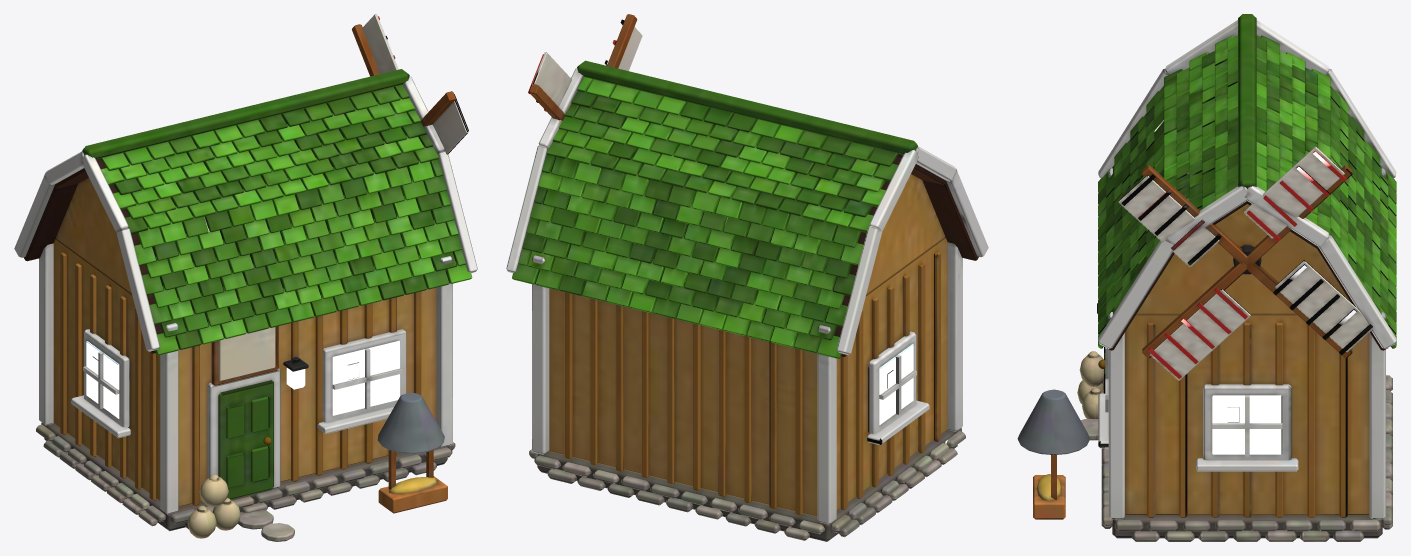
The model's file is feed_mill.glb.
3 views of the same model, side by side, from view 1: azimuth 30°, elevation 25°; view 2: azimuth 150°, elevation 25°; view 3: azimuth 270°, elevation 25° (orthographic). The views are drawn at different scales.
Parts seen in each view (by area): view 1: feed_mill, spinX_sails; view 2: feed_mill, spinX_sails; view 3: feed_mill, spinX_sails.
Boxes of the visible parts, x1,y1,x2,y2 form: feed_mill: (14,69,477,541); spinX_sails: (352,14,468,154); feed_mill: (506,60,988,541); spinX_sails: (528,14,642,120); feed_mill: (1017,14,1396,541); spinX_sails: (1118,147,1372,380).
Bounding box in the file's own units: 1.75 × 1.93 × 1.63.
Materials: 1 (1 with a texture image).
